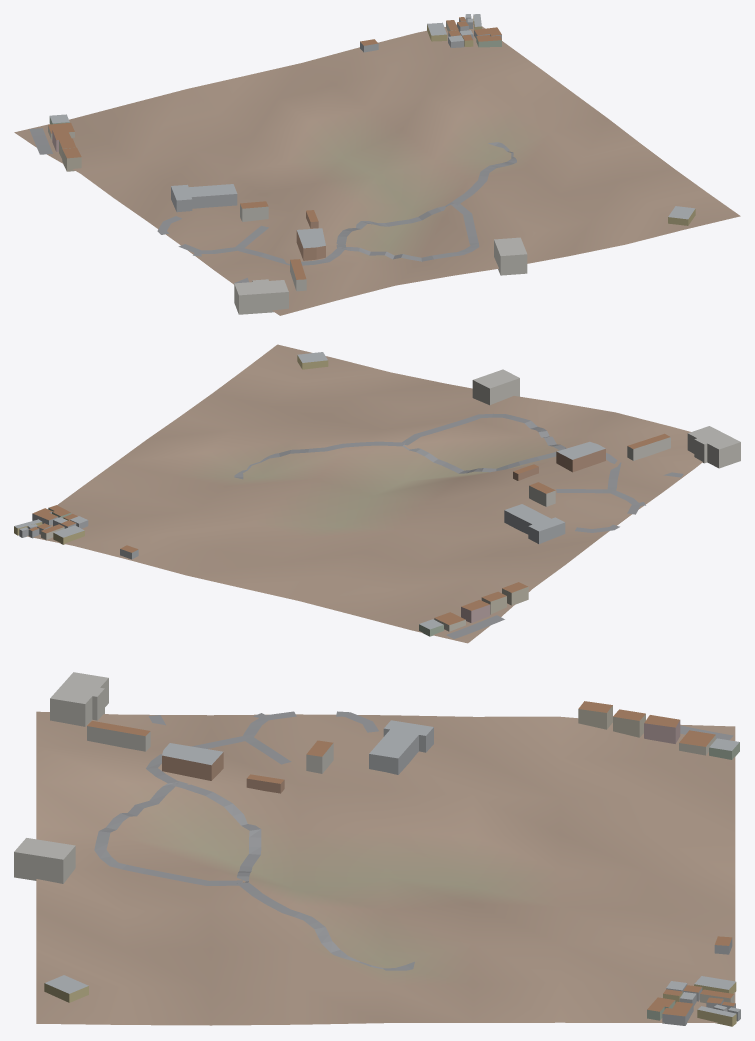
3 renders of one model, top to bottom at view 1: azimuth 30°, elevation 25°; view 2: azimuth 150°, elevation 25°; view 3: azimuth 270°, elevation 25°, orthographic. The views are drawn at different scales.
Visible parts, largest first — view 1: Lo; view 2: Lo; view 3: Lo.
Boxes of the visible parts, x1=… form: Lo: x1=14, y1=14, x2=740, y2=315; Lo: x1=14, y1=344, x2=740, y2=643; Lo: x1=14, y1=672, x2=740, y2=1026.
Bounding box in the file's own units: 274 × 21.41 × 266.
